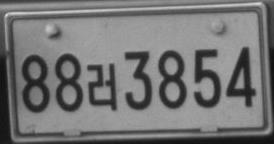3: (124, 50, 153, 110)
4: (225, 46, 257, 107)
5: (193, 48, 221, 108)
8: (53, 52, 84, 113), (157, 48, 187, 109), (21, 53, 50, 113)
러: (86, 63, 118, 111)
